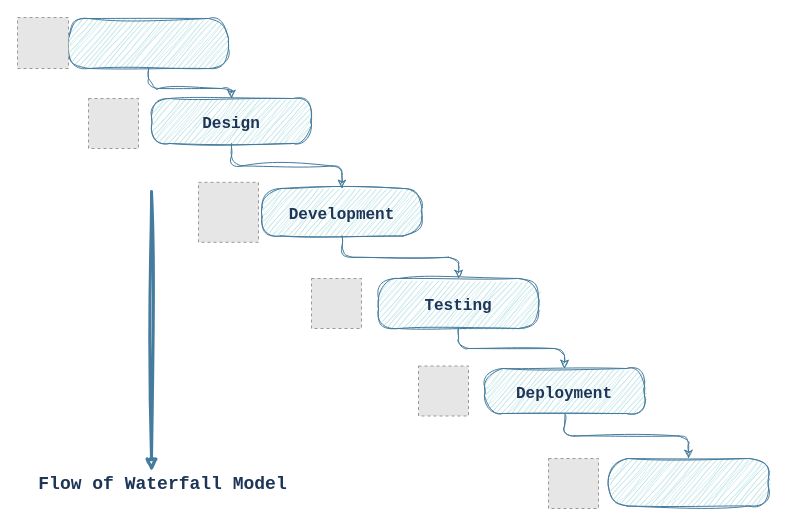
The diagram is 786 pixels wide and 526 high, and some of its shapes have lost their labels. Grey dashed boxes stand in for pictures. The centre of each missing label's shape, as x and y in pixels:
"Maintenance" goes at (688,482).
"Requirement" goes at (148,43).
